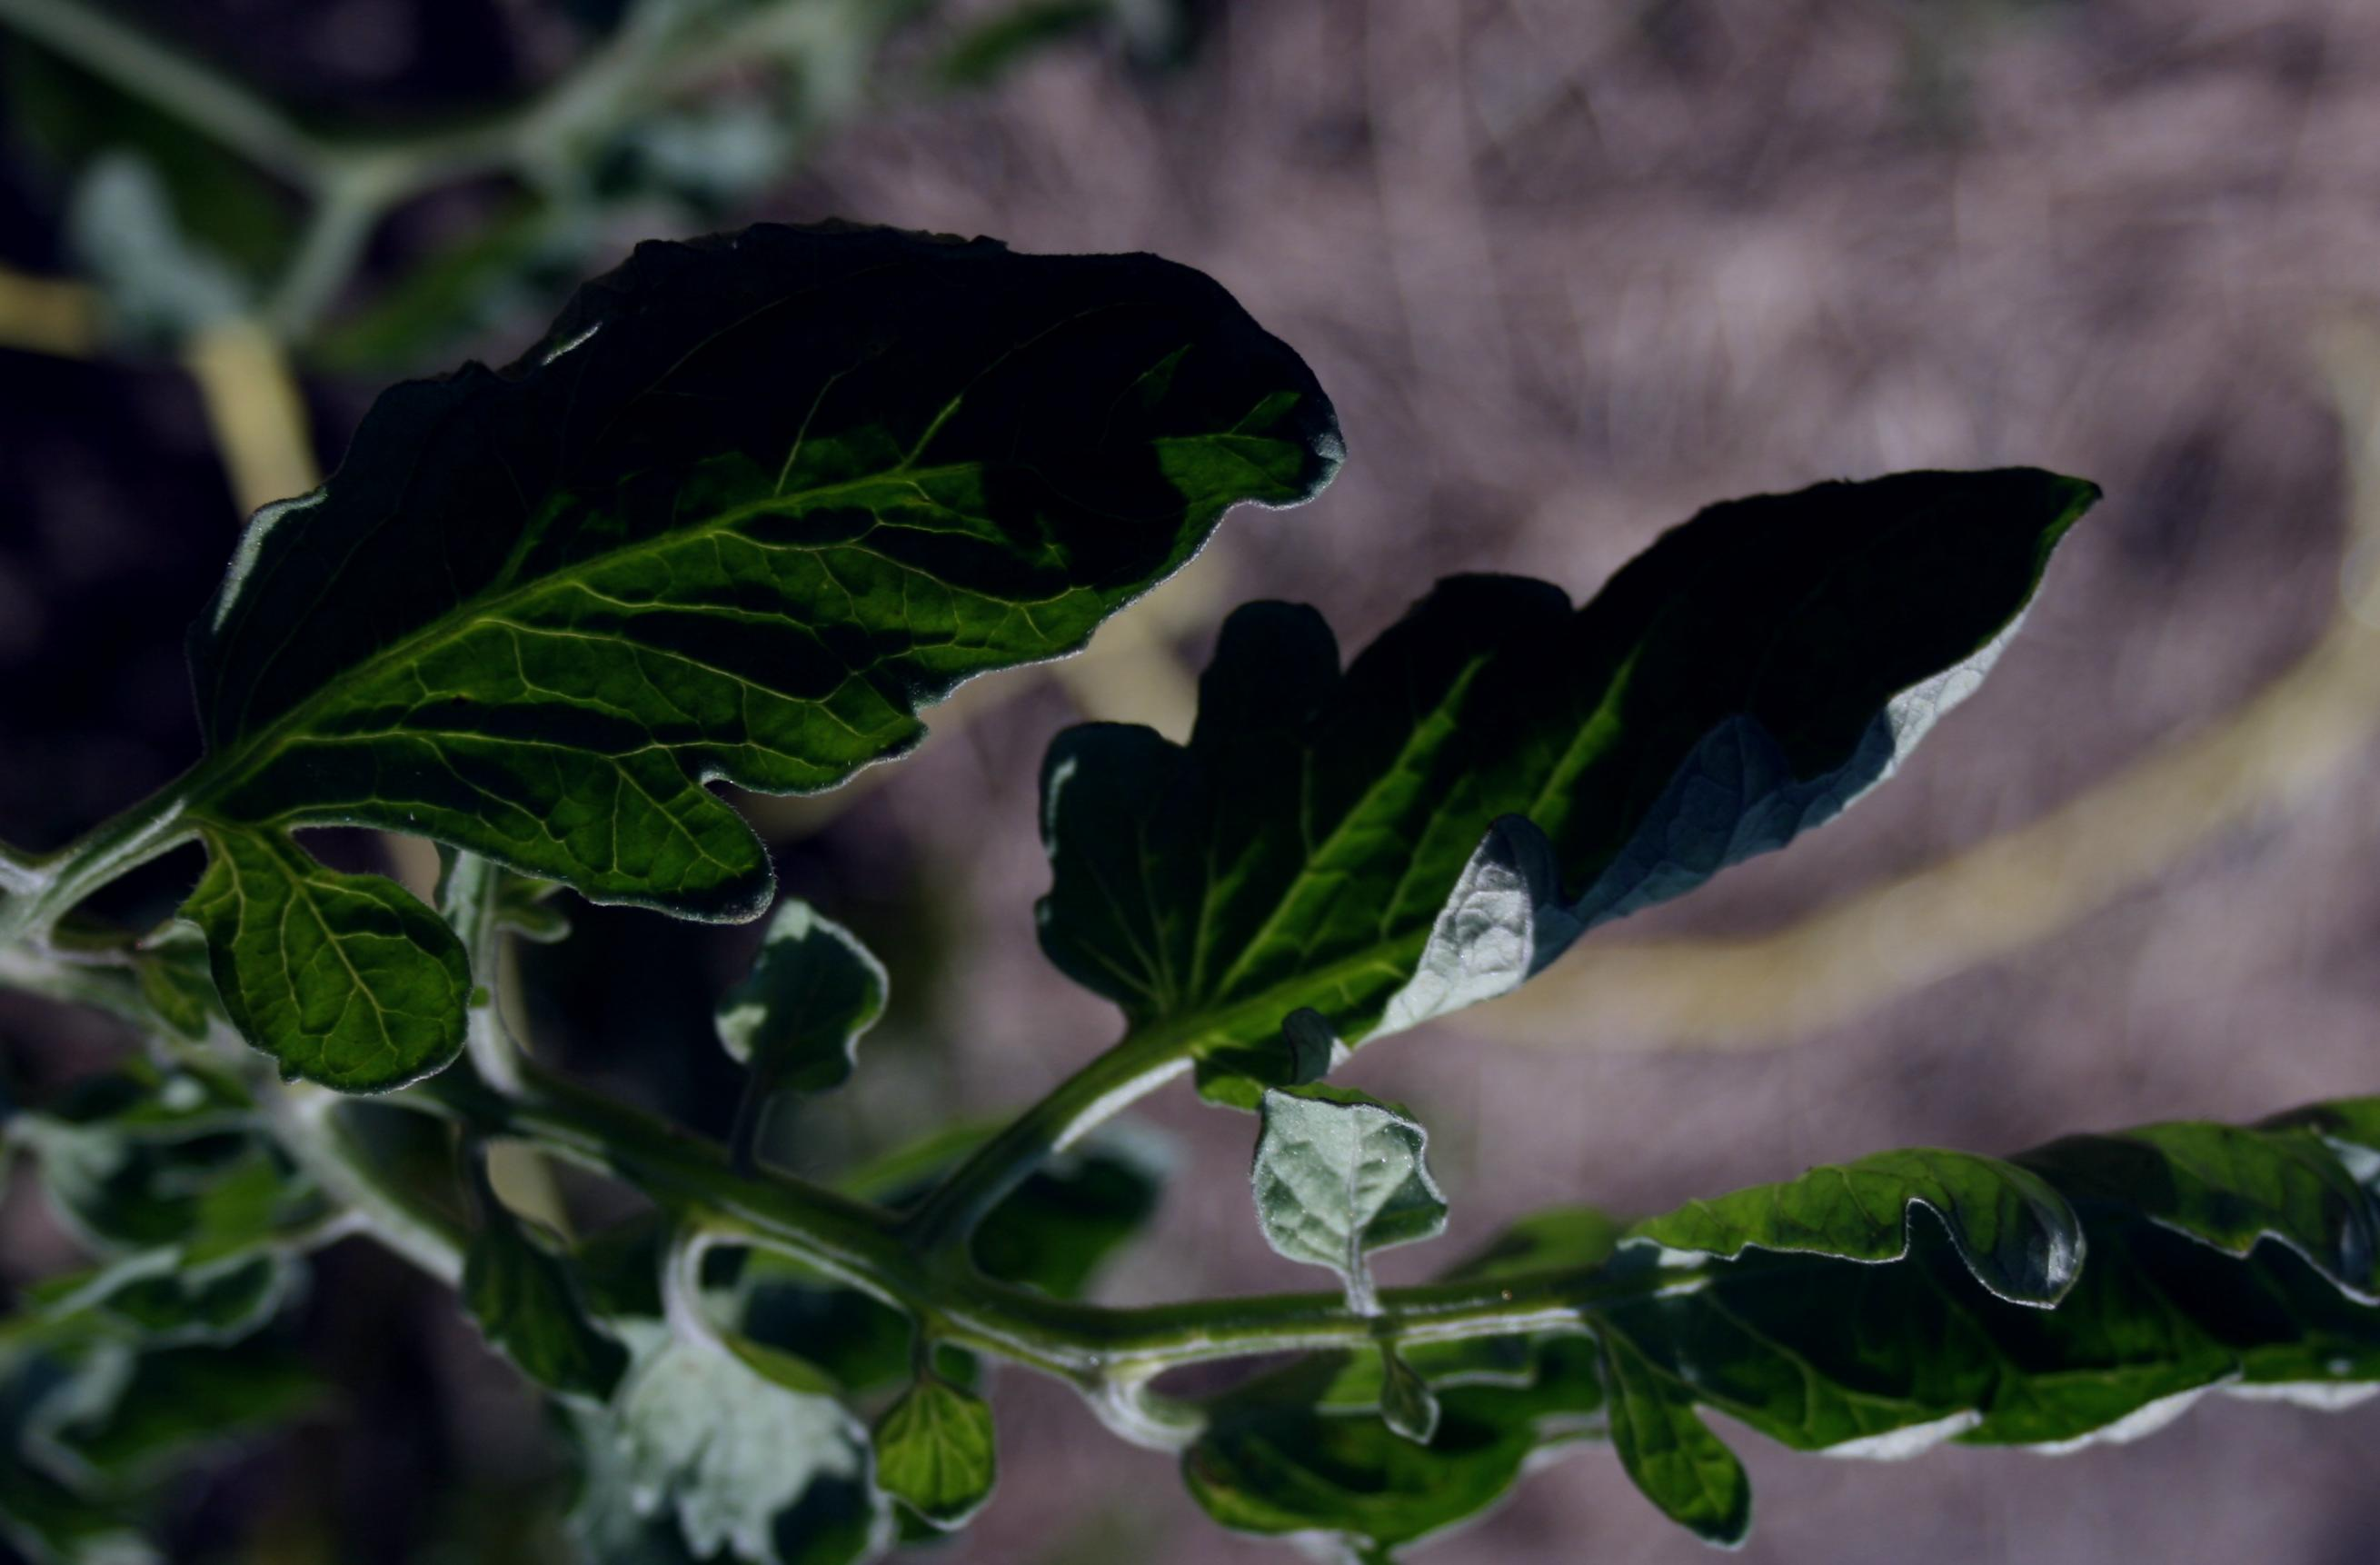Tomato leaf: (96, 189, 1343, 964), (1062, 449, 2092, 1120), (1416, 1041, 2380, 1565)
